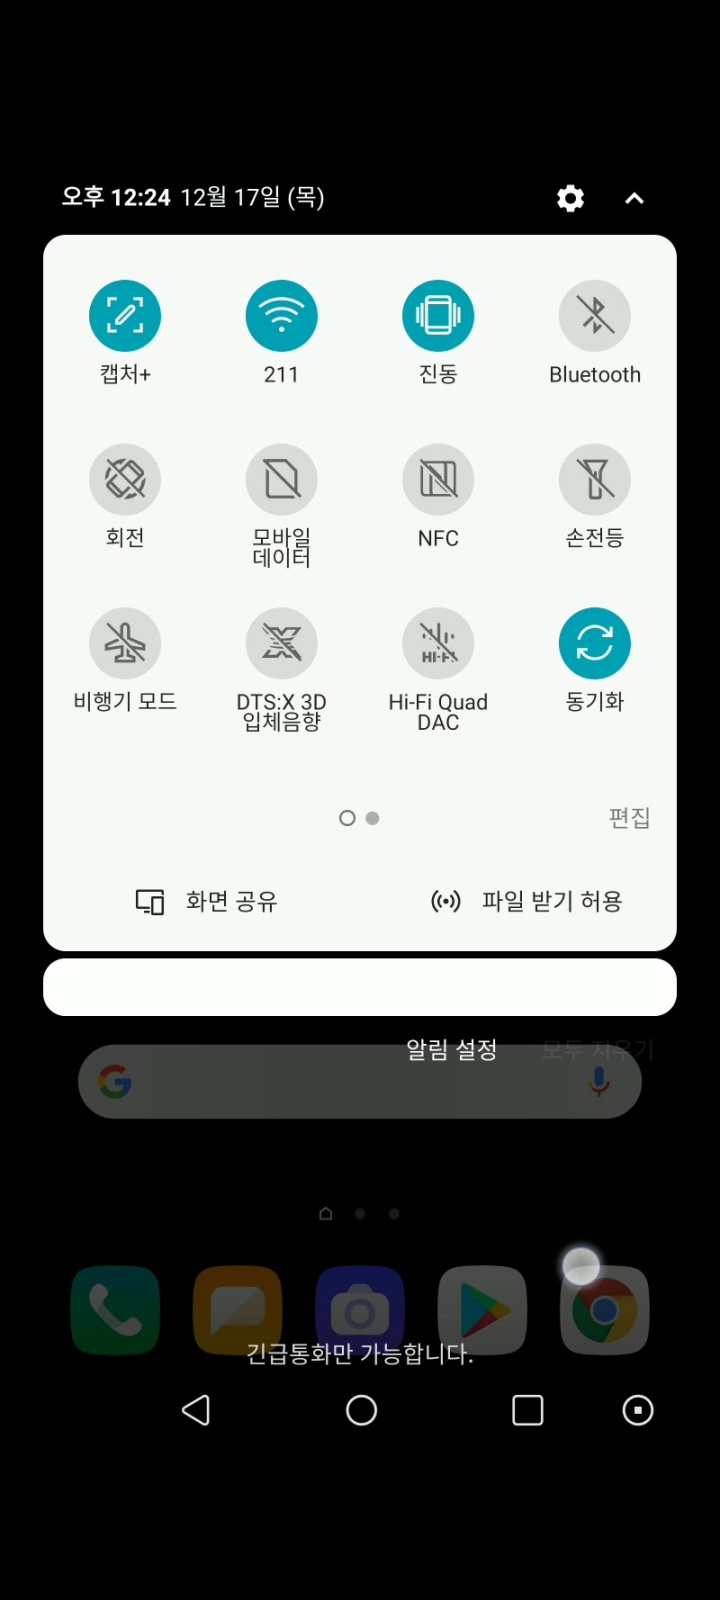Cursor: (559, 1244, 604, 1289)
